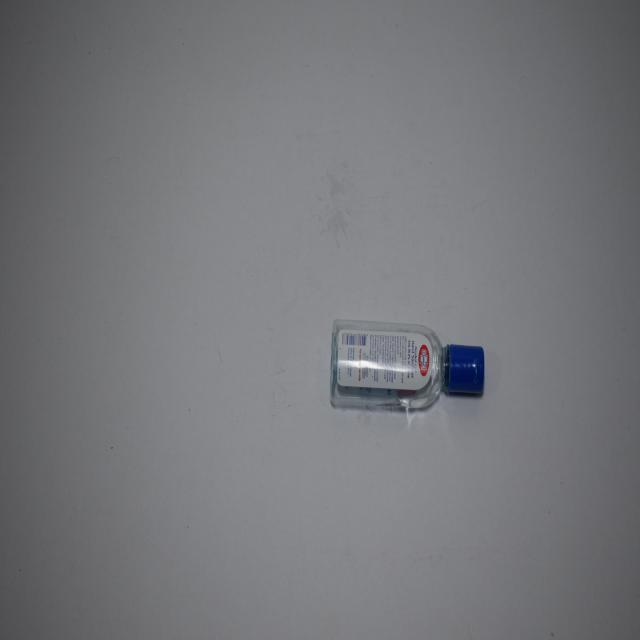plasticbottle: (327, 308, 443, 422)
plasticbottlecap: (444, 336, 488, 399)
